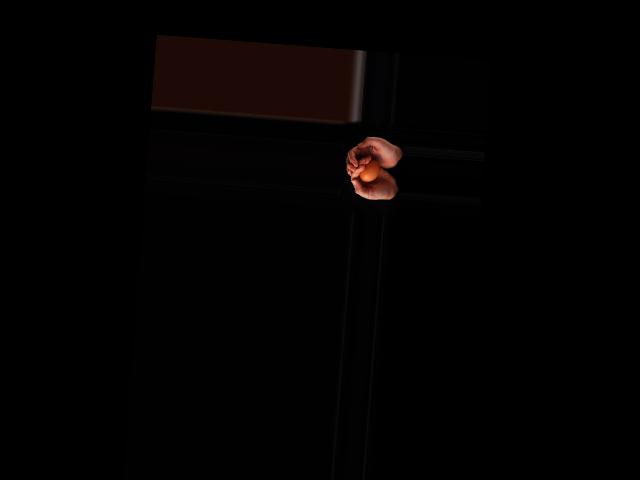egg: (359, 157, 380, 182)
